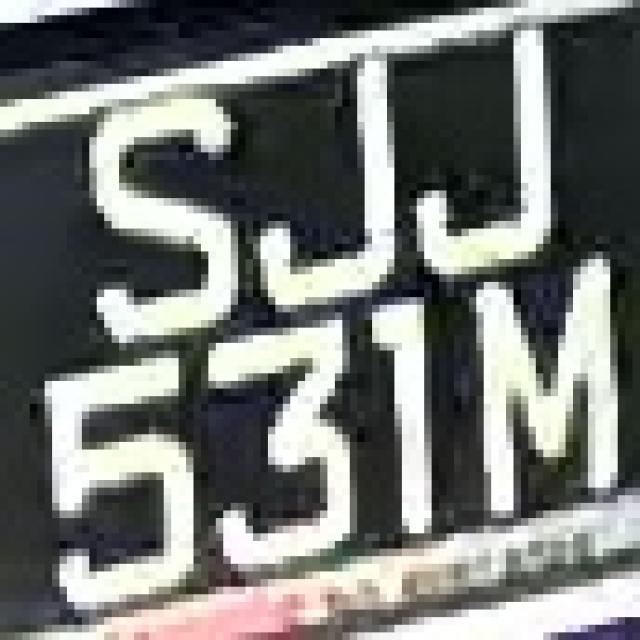1: (364, 251, 446, 564)
3: (186, 297, 372, 587)
5: (30, 335, 223, 625)
J: (394, 0, 573, 305), (260, 30, 410, 312)
M: (469, 259, 625, 526)
S: (82, 84, 238, 328)
